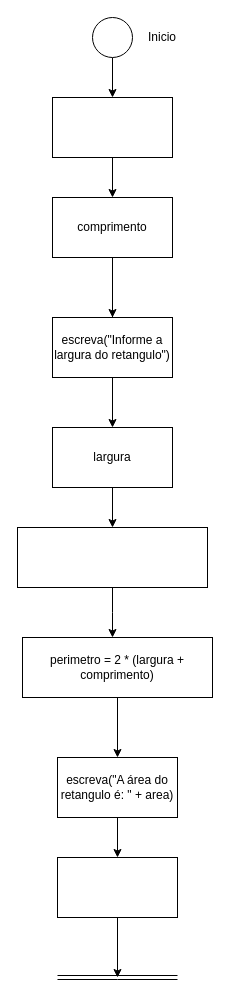
Image size: 230x1003. Some labels were removed from this diagram. Here are the shapes that lost their labels. From the top down, the centre of each, then its label:
(x=112, y=127): escreva("Informe o comprimento do retangulo")
(x=112, y=557): area = largura * comprimento
(x=117, y=887): escreva("O perimetro do retangulo é: " + perimetro)
